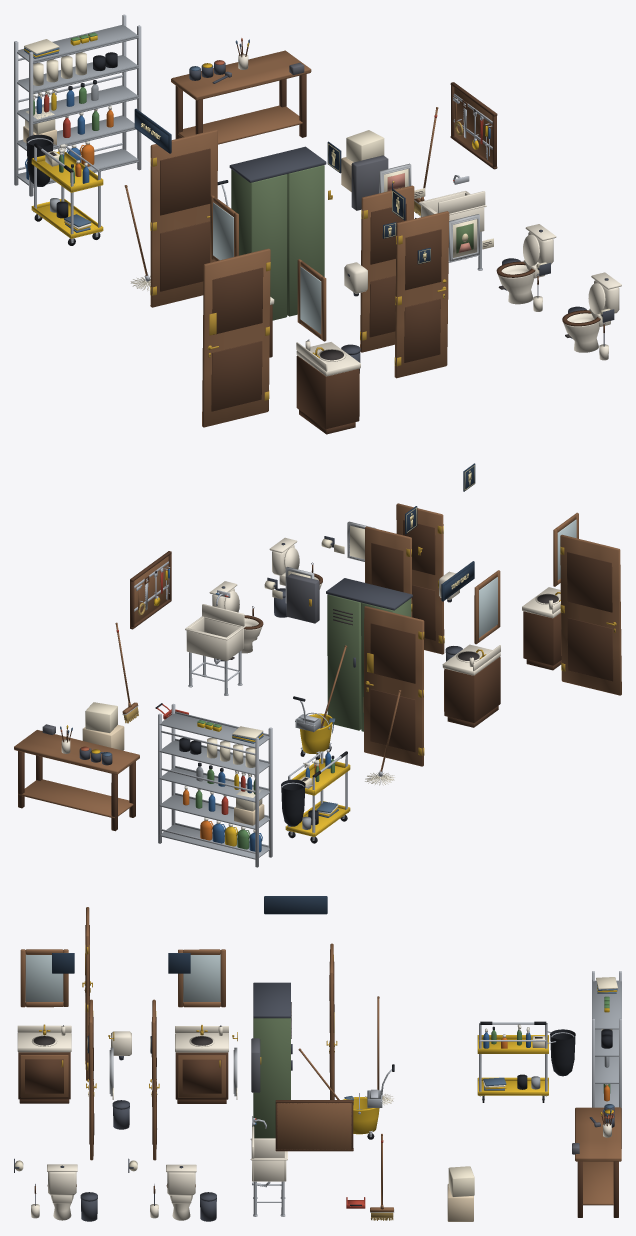
The model's file is Museum_Int_Service_Areas.fbx.
3 renders of one model, top to bottom at view 1: azimuth 30°, elevation 25°; view 2: azimuth 150°, elevation 25°; view 3: azimuth 270°, elevation 25°, orthographic. The views are drawn at different scales.
Parts seen in each view (by area): view 1: Maintenance_Shelves, Door_StairHall_Restrooms, Maintenance_Lockers, Door_Maintenance, Door_Restroom_1, Maintenance_Workbench, Door_Restroom_2, Restroom_Lobby_Counter_S, Maintenance_Cart, Maintenance_ToolRack, Restroom_2_Toilet, Restroom_1_Toilet (+9 smaller); view 2: Maintenance_Shelves, Door_StairHall_Restrooms, Door_Maintenance, Maintenance_Lockers, Maintenance_Workbench, Door_Restroom_1, Restroom_Lobby_Counter_N, Maintenance_Cart, Maintenance_Sink, Restroom_Lobby_Counter_S, Door_Restroom_2, Maintenance_ToolRack (+9 smaller); view 3: Maintenance_Lockers, Maintenance_Workbench, Maintenance_Cart, Restroom_Lobby_Counter_S, Restroom_Lobby_Counter_N, Maintenance_ToolRack, Maintenance_Shelves, Restroom_Lobby_Mirror_N, Restroom_Lobby_Mirror_S, Maintenance_Sink, Maintenance_Boxes, Maintenance_MopBucket (+15 smaller).
Boxes of the visible parts, x1,y1,x2,y2 form: Maintenance_Shelves: [14, 14, 141, 196]; Door_StairHall_Restrooms: [202, 248, 270, 427]; Maintenance_Lockers: [229, 146, 326, 320]; Door_Maintenance: [150, 129, 217, 307]; Door_Restroom_1: [394, 211, 449, 378]; Maintenance_Workbench: [171, 38, 311, 144]; Door_Restroom_2: [360, 185, 414, 352]; Restroom_Lobby_Counter_S: [296, 339, 360, 434]; Maintenance_Cart: [26, 134, 103, 245]; Maintenance_ToolRack: [450, 82, 497, 169]; Restroom_2_Toilet: [496, 224, 556, 304]; Restroom_1_Toilet: [562, 272, 621, 352]; Maintenance_Shelves: [158, 704, 272, 867]; Door_StairHall_Restrooms: [560, 534, 621, 695]; Door_Maintenance: [363, 606, 424, 766]; Maintenance_Lockers: [326, 578, 412, 731]; Maintenance_Workbench: [14, 724, 139, 831]; Door_Restroom_1: [396, 503, 444, 654]; Restroom_Lobby_Counter_N: [442, 644, 500, 727]; Maintenance_Cart: [281, 749, 350, 843]; Maintenance_Sink: [185, 590, 245, 695]; Restroom_Lobby_Counter_S: [522, 587, 561, 670]; Door_Restroom_2: [365, 526, 412, 617]; Maintenance_ToolRack: [130, 551, 171, 629]; Maintenance_Lockers: [253, 982, 292, 1138]; Maintenance_Workbench: [572, 1104, 621, 1217]; Maintenance_Cart: [477, 1021, 575, 1102]; Restroom_Lobby_Counter_S: [17, 1024, 71, 1103]; Restroom_Lobby_Counter_N: [175, 1025, 228, 1103]; Maintenance_ToolRack: [275, 1100, 353, 1151]; Maintenance_Shelves: [592, 971, 621, 1148]; Restroom_Lobby_Mirror_N: [178, 949, 225, 1007]; Restroom_Lobby_Mirror_S: [20, 949, 68, 1007]; Maintenance_Sink: [250, 1116, 287, 1216]; Maintenance_Boxes: [447, 1166, 474, 1221]; Maintenance_MopBucket: [298, 1048, 394, 1139].
Bounding box in the file's own units: 5.54 × 2.73 × 8.11.
